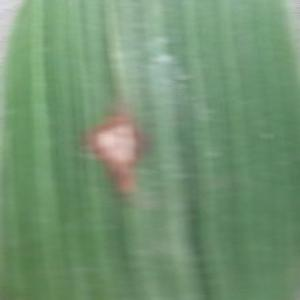Rice_Blast: (58, 94, 166, 219)
